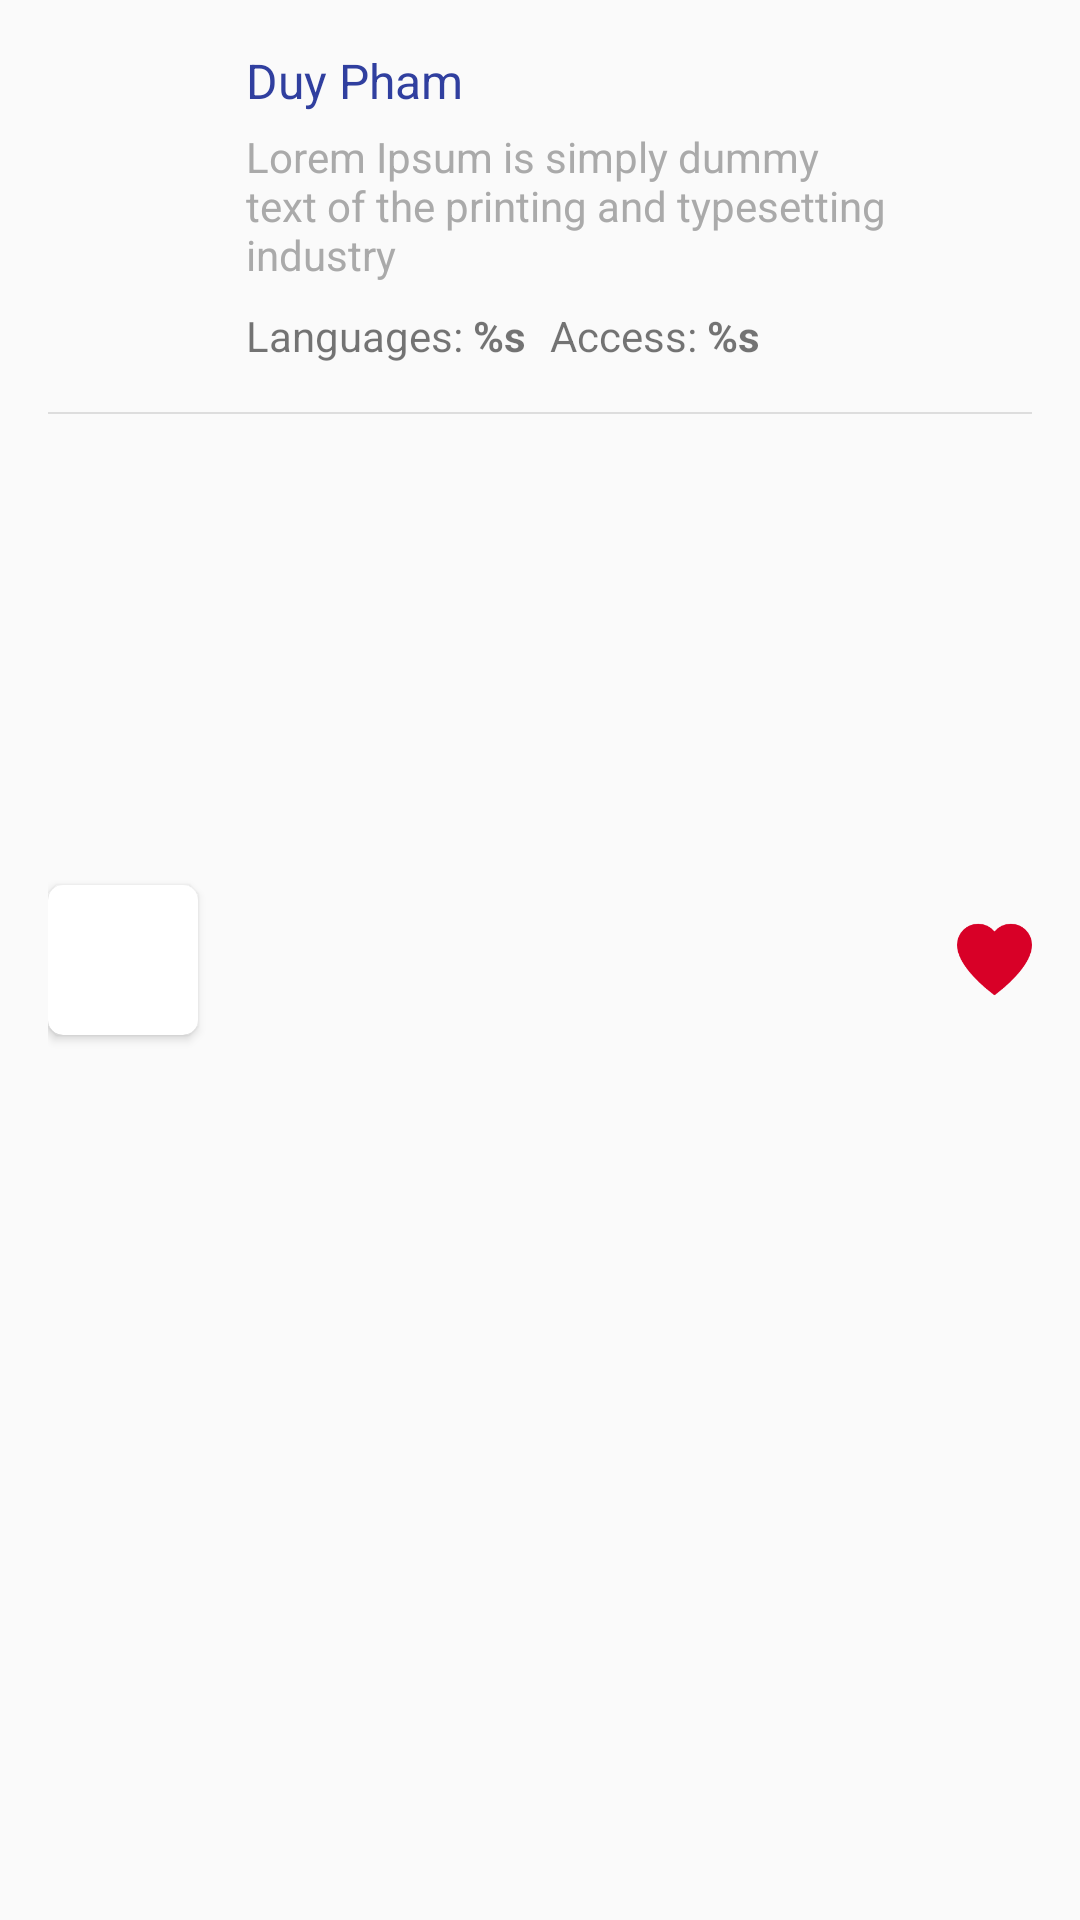

Point at icon controls on the screen. Image size 1080px×1920px, points as [x,y].
favorite: [994,959]
